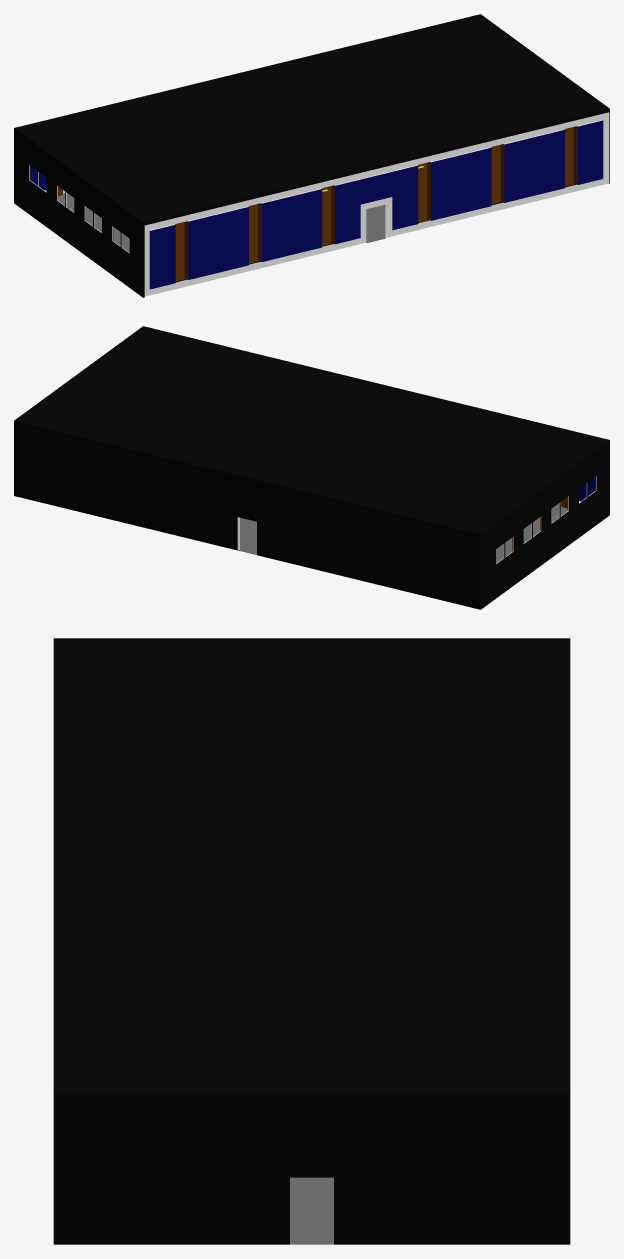
File: MainRoom.fbx
The picture shows the model from 3 angles, top to bottom: view 1: azimuth 30°, elevation 25°; view 2: azimuth 150°, elevation 25°; view 3: azimuth 270°, elevation 25°; orthographic projection. The views are drawn at different scales.
Parts seen in each view (by area): view 1: Model; view 2: Model; view 3: Model.
Part boxes in pixels (left/top/right/bottom): Model: left=14, top=14, right=609, bottom=297; Model: left=14, top=326, right=609, bottom=609; Model: left=53, top=638, right=570, bottom=1244.
Size of the model in its own units: 29.2 by 4.5 by 14.
